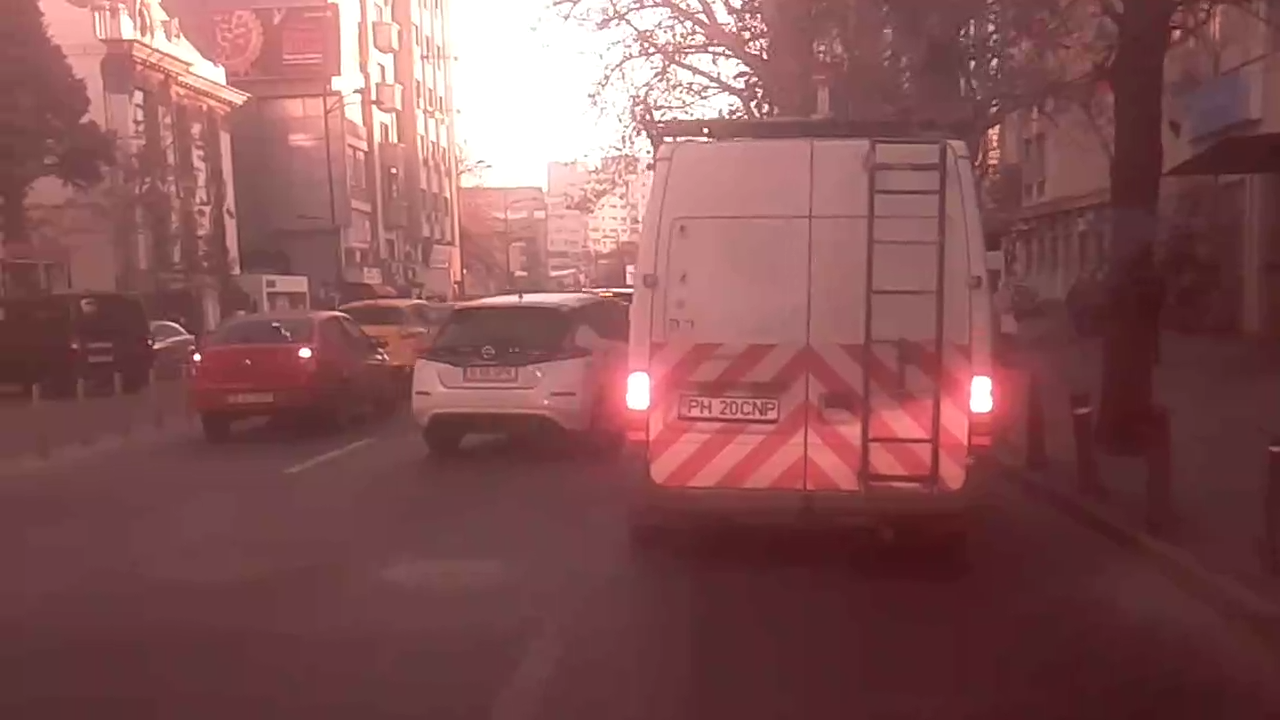license-plate: (673, 388, 783, 427)
